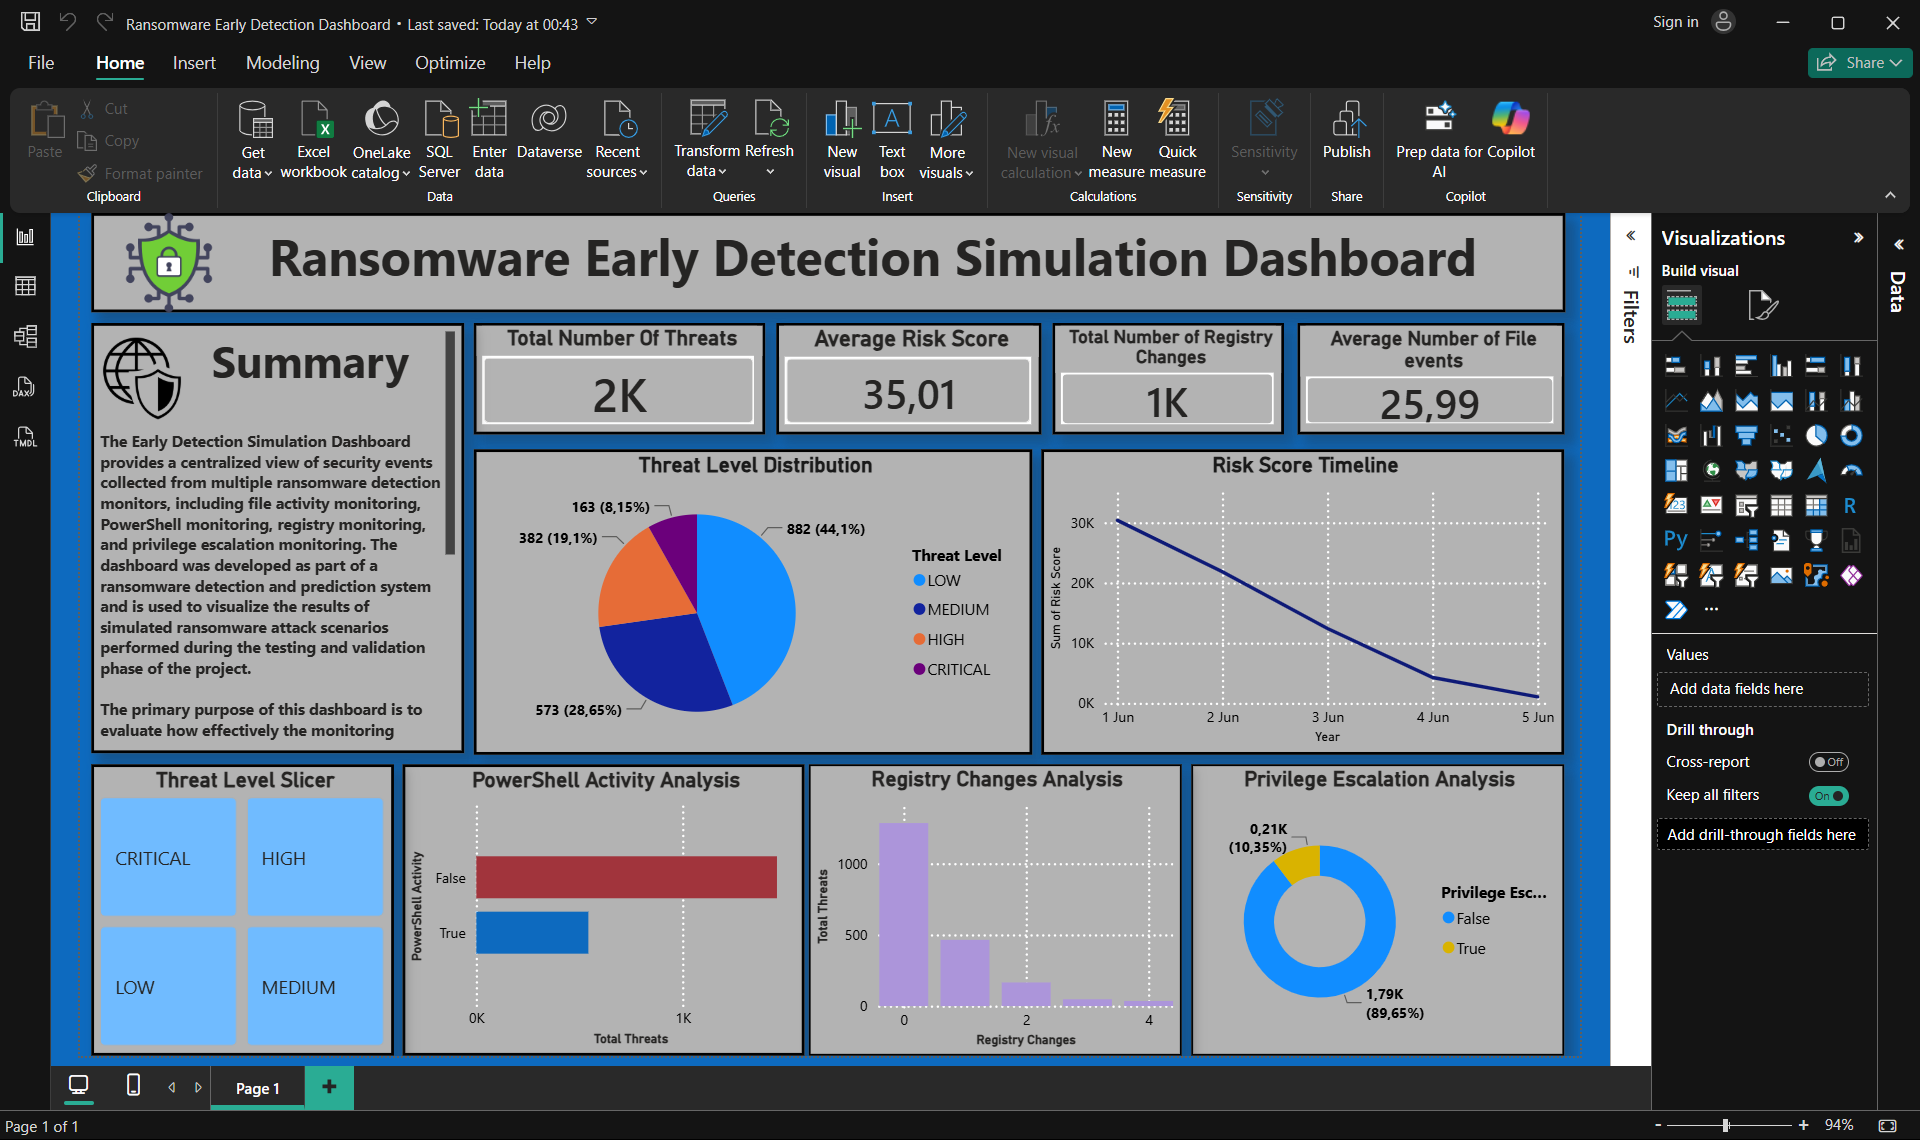

What the dashboard file says about the page in this screenshot:
{"tool":"powerbi","page":{"name":"Page 1","canvas":[1280,720],"ordinal":0},"visuals":[{"type":"textbox","box":[9.3,0,1258.1,84.9],"z":0},{"type":"cardVisual","title":"Total Number Of Threats","fields":{"Data":["threat_log_dataset_2000_records.Total Threats"]},"box":[336,94.2,248.8,95.3],"z":1000},{"type":"cardVisual","title":"Average Risk Score","fields":{"Data":["Avg(threat_log_dataset_2000_records.Risk Score)"]},"box":[594.2,94.2,226.7,95.3],"z":2000},{"type":"textbox","box":[9.3,94.2,318.6,367.4],"z":3000},{"type":"image","box":[18.6,105.8,69.8,70.9],"z":4000},{"type":"image","box":[9.3,0,132.6,84.9],"z":5000},{"type":"cardVisual","title":"Total Number of Registry Changes","fields":{"Data":["Sum(threat_log_dataset_2000_records.Registry Changes)"]},"box":[830.2,94.2,197.7,95.3],"z":6000},{"type":"cardVisual","title":"Average Number of File events","fields":{"Data":["Avg(threat_log_dataset_2000_records.File Events)"]},"box":[1039.5,94.2,227.9,95.3],"z":7000},{"type":"pieChart","title":"Threat Level Distribution","fields":{"Category":["threat_log_dataset_2000_records.Threat Level"],"Y":["CountNonNull(threat_log_dataset_2000_records.Threat Level)"]},"box":[336,201.2,476.7,260.5],"z":8000},{"type":"lineChart","title":"Risk Score Timeline","fields":{"Y":["Sum(threat_log_dataset_2000_records.Risk Score)"],"Category":["threat_log_dataset_2000_records.Timestamp.Variation.Date Hierarchy.Year","threat_log_dataset_2000_records.Timestamp.Variation.Date Hierarchy.Quarter","threat_log_dataset_2000_records.Timestamp.Variation.Date Hierarchy.Month","threat_log_dataset_2000_records.Timestamp.Variation.Date Hierarchy.Day"]},"box":[820.9,201.2,446.5,260.5],"z":9000},{"type":"clusteredBarChart","title":"PowerShell Activity Analysis","fields":{"Category":["threat_log_dataset_2000_records.PowerShell Activity"],"Y":["threat_log_dataset_2000_records.Total Threats"]},"box":[275.6,470.9,343,248.8],"z":10000},{"type":"donutChart","title":"Privilege Escalation Analysis","fields":{"Category":["threat_log_dataset_2000_records.Privilege Escalation"],"Y":["CountNonNull(threat_log_dataset_2000_records.Privilege Escalation)"]},"box":[948.8,470.9,318.6,248.8],"z":11000},{"type":"clusteredColumnChart","title":"Registry Changes Analysis","fields":{"Category":["threat_log_dataset_2000_records.Registry Changes"],"Y":["threat_log_dataset_2000_records.Total Threats"]},"box":[622.1,470.9,318.6,248.8],"z":12000},{"type":"advancedSlicerVisual","title":"Threat Level Slicer","fields":{"Values":["threat_log_dataset_2000_records.Threat Level"]},"box":[9.3,470.9,258.1,248.8],"z":13000}]}

Visuals, with their boxes on the page's 1280x720 design canvas (x1, y1, x2, y2). These are canvas units, not pixel positions in the 1920x1140 screenshot, which may show the page scaled, cropped or inside an application window:
textbox: crop(9, 0, 1267, 85)
"Total Number Of Threats" cardVisual: crop(336, 94, 585, 190)
"Average Risk Score" cardVisual: crop(594, 94, 821, 190)
textbox: crop(9, 94, 328, 462)
image: crop(19, 106, 88, 177)
image: crop(9, 0, 142, 85)
"Total Number of Registry Changes" cardVisual: crop(830, 94, 1028, 190)
"Average Number of File events" cardVisual: crop(1040, 94, 1267, 190)
"Threat Level Distribution" pieChart: crop(336, 201, 813, 462)
"Risk Score Timeline" lineChart: crop(821, 201, 1267, 462)
"PowerShell Activity Analysis" clusteredBarChart: crop(276, 471, 619, 720)
"Privilege Escalation Analysis" donutChart: crop(949, 471, 1267, 720)
"Registry Changes Analysis" clusteredColumnChart: crop(622, 471, 941, 720)
"Threat Level Slicer" advancedSlicerVisual: crop(9, 471, 267, 720)
